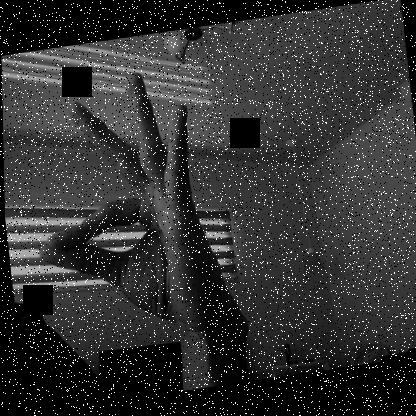F: (18, 62, 227, 353)
